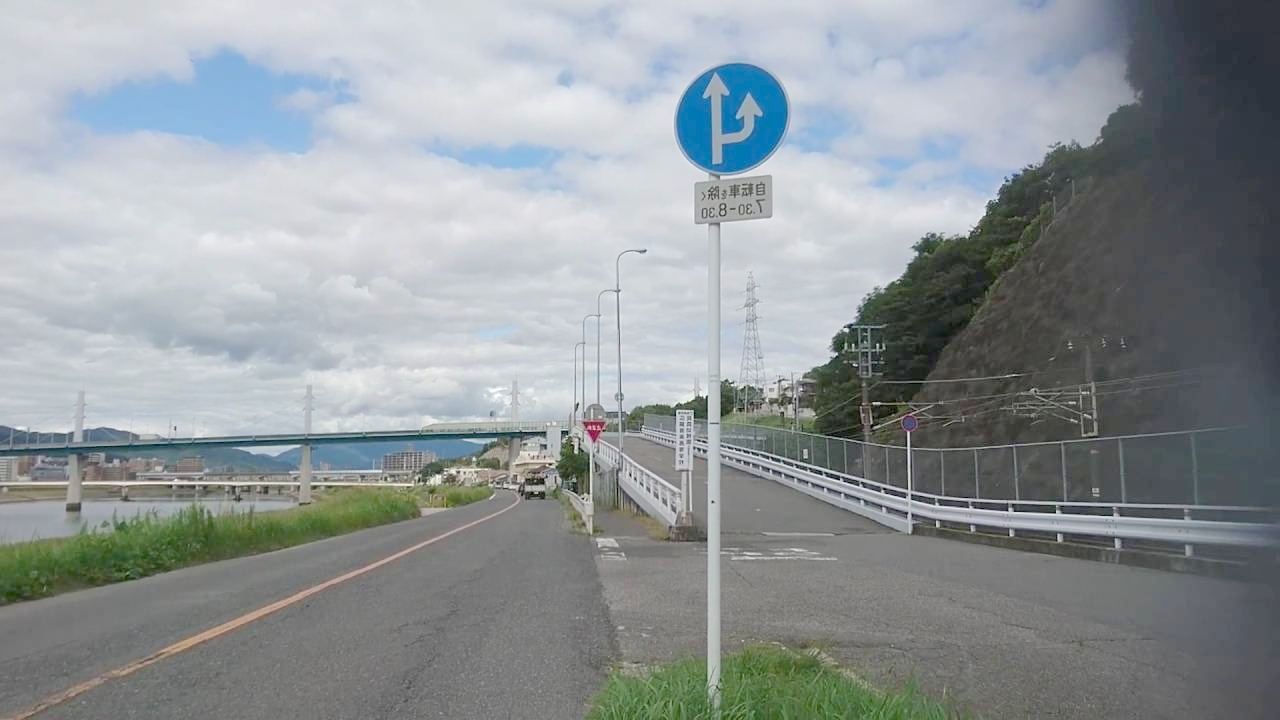Direction_sign: (659, 58, 798, 190)
